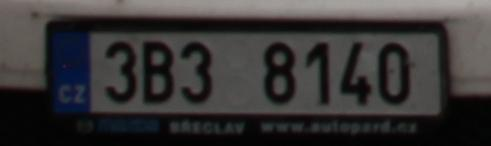0: (378, 41, 412, 104)
1: (305, 38, 333, 106)
3: (179, 40, 214, 102), (104, 39, 136, 102)
4: (340, 40, 374, 106)
8: (264, 40, 296, 105)
B: (141, 36, 176, 106)
